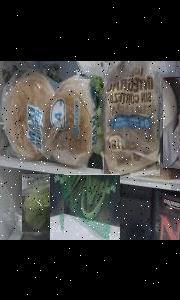Leche: (163, 77, 180, 168)
Lechuga/Endivia: (22, 173, 64, 231)
